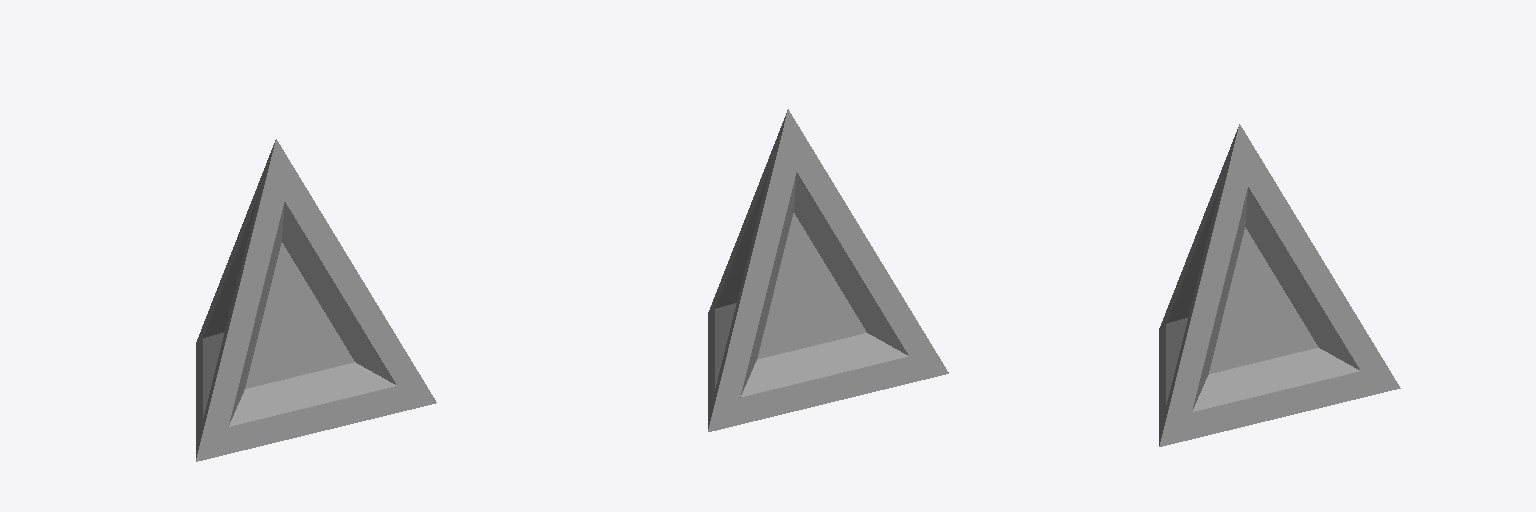
The model's file is Powerup.obj.
The picture shows the model from 3 angles: view 1: azimuth 30°, elevation 25°; view 2: azimuth 150°, elevation 25°; view 3: azimuth 270°, elevation 25°; orthographic projection.
Parts seen in each view (by area): view 1: Cylinder; view 2: Cylinder; view 3: Cylinder.
Boxes of the visible parts, box(x1,y1,x2,y2) form: Cylinder: box(196, 139, 436, 461); Cylinder: box(708, 109, 948, 431); Cylinder: box(1159, 124, 1400, 446).
Size of the model in its own units: 2.58 by 2.7 by 2.24.